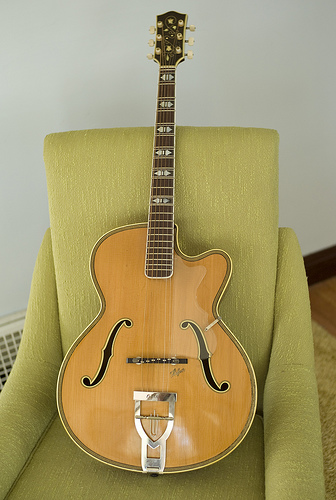guitar: (54, 10, 257, 476)
